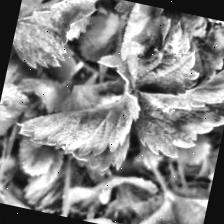Powdery Mildew Leaf: (9, 71, 144, 178), (90, 0, 211, 106)
